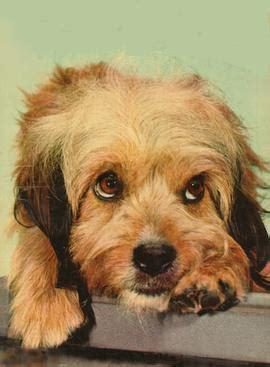dog: (10, 59, 269, 349)
